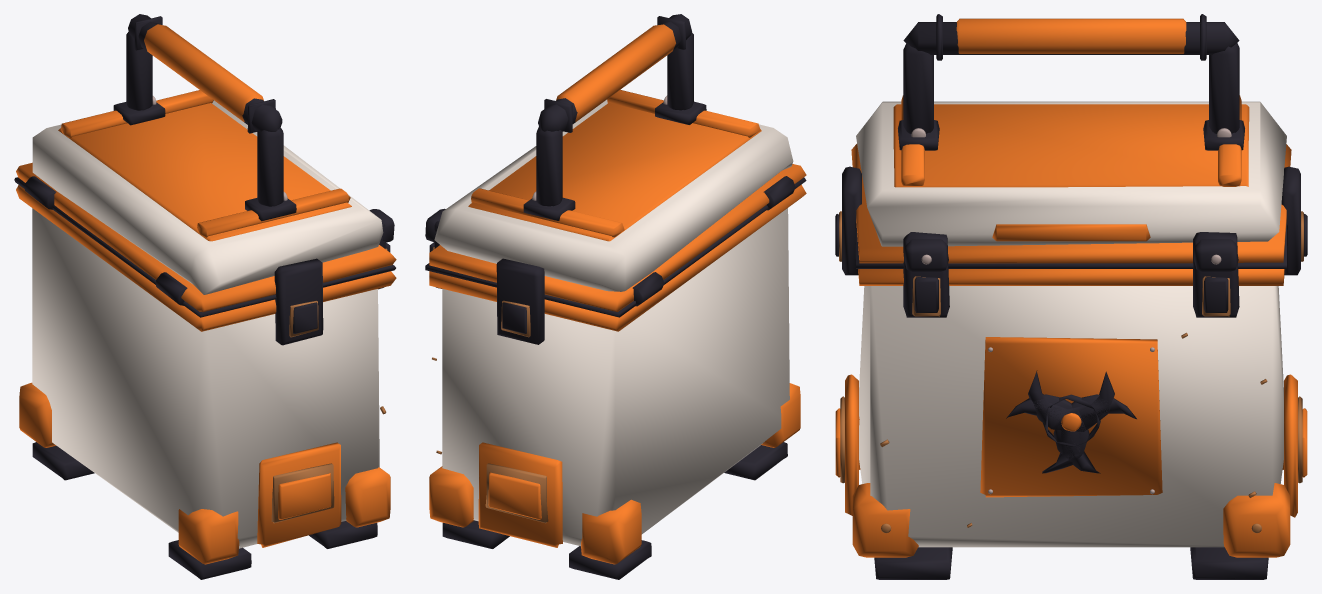
3 renders of one model, left to right at view 1: azimuth 30°, elevation 25°; view 2: azimuth 150°, elevation 25°; view 3: azimuth 270°, elevation 25°, orthographic. The views are drawn at different scales.
Parts seen in each view (by area): view 1: body, object 2; view 2: body, object 2; view 3: body, object 2.
Part boxes in pixels (x1=…): body: x1=14, y1=177, x2=396, y2=579; object 2: x1=16, y1=14, x2=396, y2=312; body: x1=425, y1=177, x2=806, y2=579; object 2: x1=425, y1=14, x2=806, y2=311; body: x1=835, y1=166, x2=1307, y2=579; object 2: x1=851, y1=14, x2=1291, y2=271.
Size of the model in its own units: 0.5415 by 0.9975 by 0.8347.
